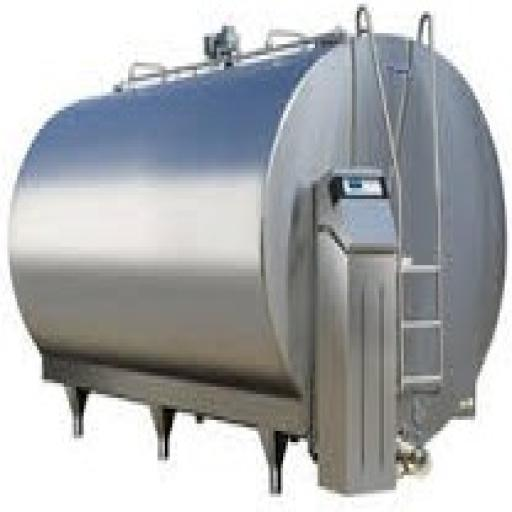silo: (7, 34, 509, 455)
